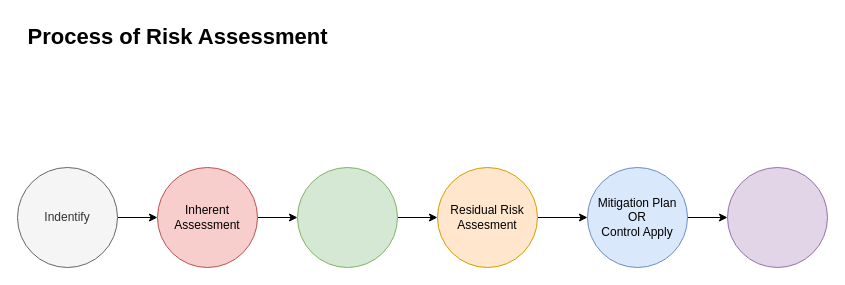
The diagram is 845 pixels wide and 285 high, and some of its shapes have lost their labels. The shapes that lost their labels are listed below. From the top down, each one's centre as x and y in pixels, then its label:
the point at 347,217: Control Implementation
the point at 777,217: Monitor
